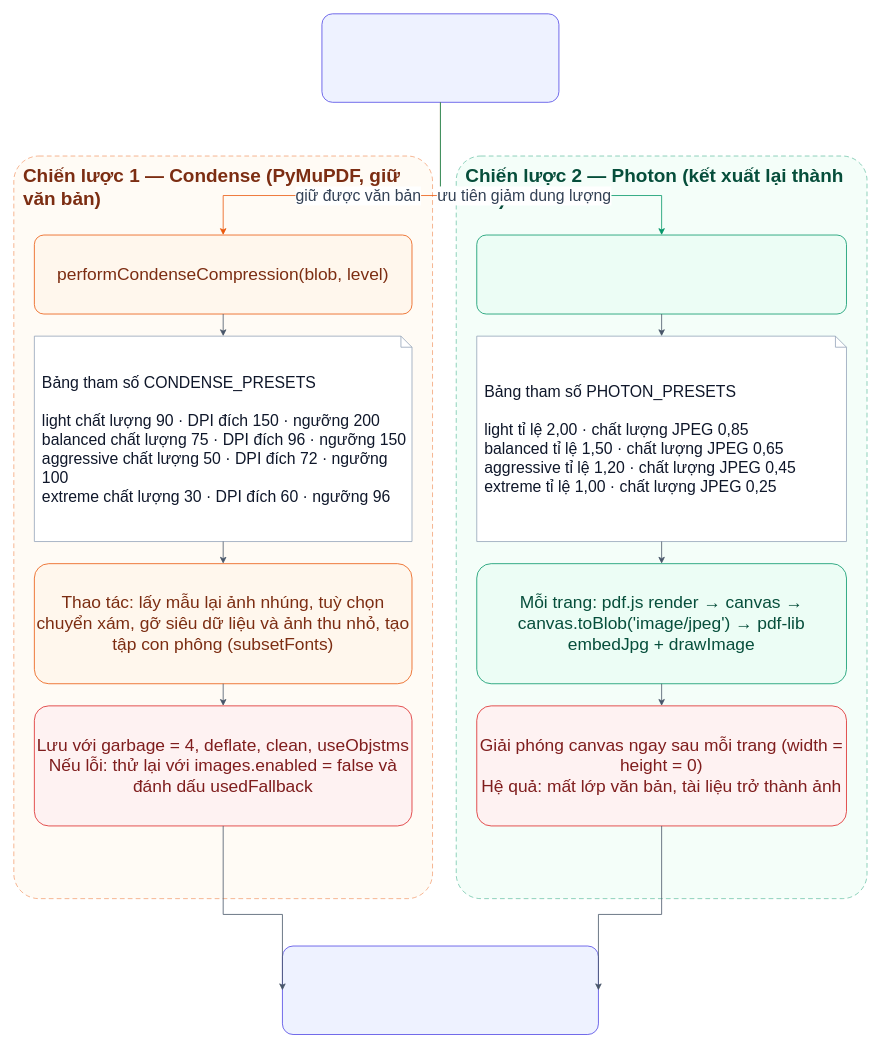
Some shapes in this 881 by 1048 pixel diagram are drawn without their labels. Here are the shapes that lost their labels. From the top down, the centre of each, then its label:
At (440,57): "Tệp PDF đầu vào + mức nén đã chọn".
At (661,274): "performPhotonCompression(buffer, level)".
At (440,990): "So sánh dung lượng trước / sau và tải xuống kết quả".
